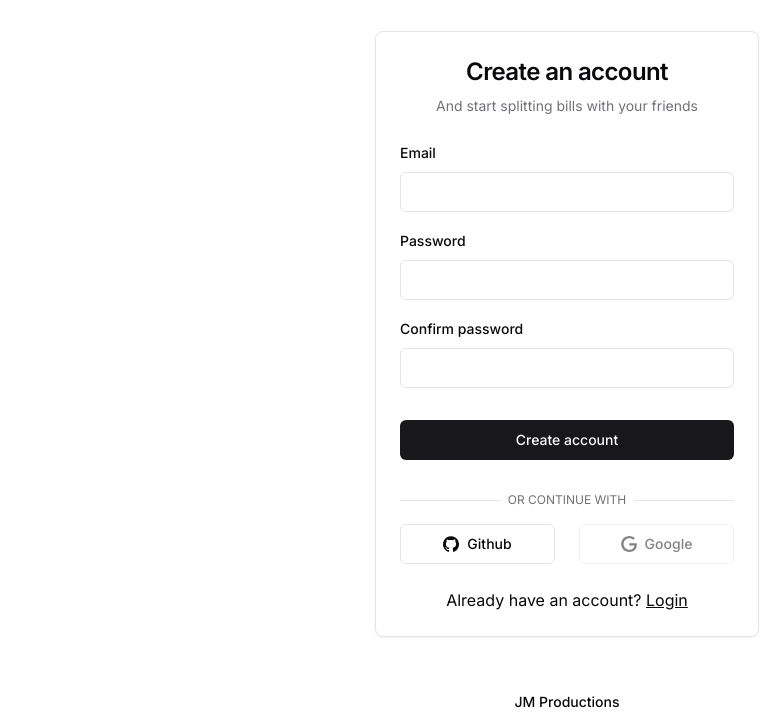
Register form tests › Try registering with an empty confirm password
The width and height of the screenshot is (776, 715).
Step 1. Type "test@test.com" into the field with test id "register-email" → (567, 192), box [400, 172, 734, 212]
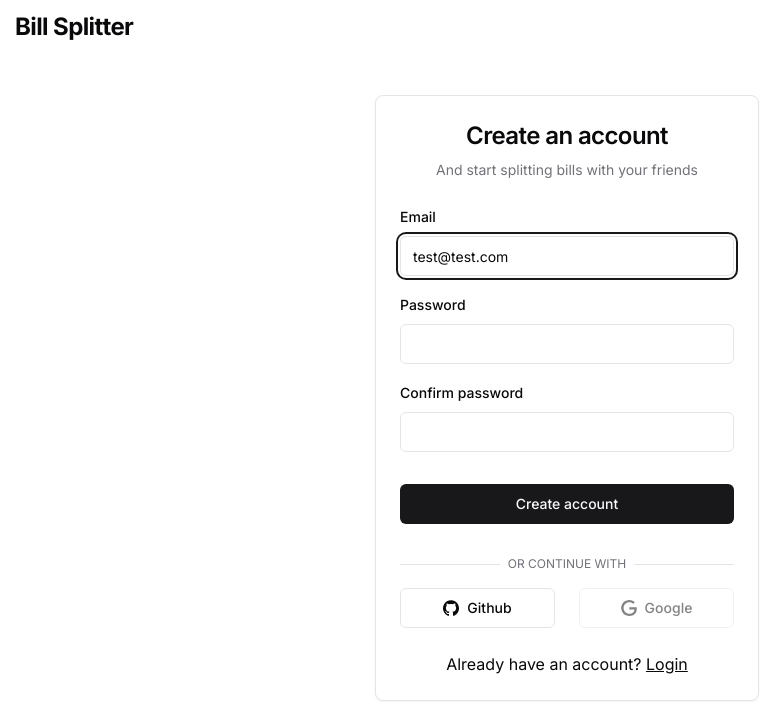
Step 2. Type "password123" into the password field with test id "register-password" → (567, 344), box [400, 324, 734, 364]
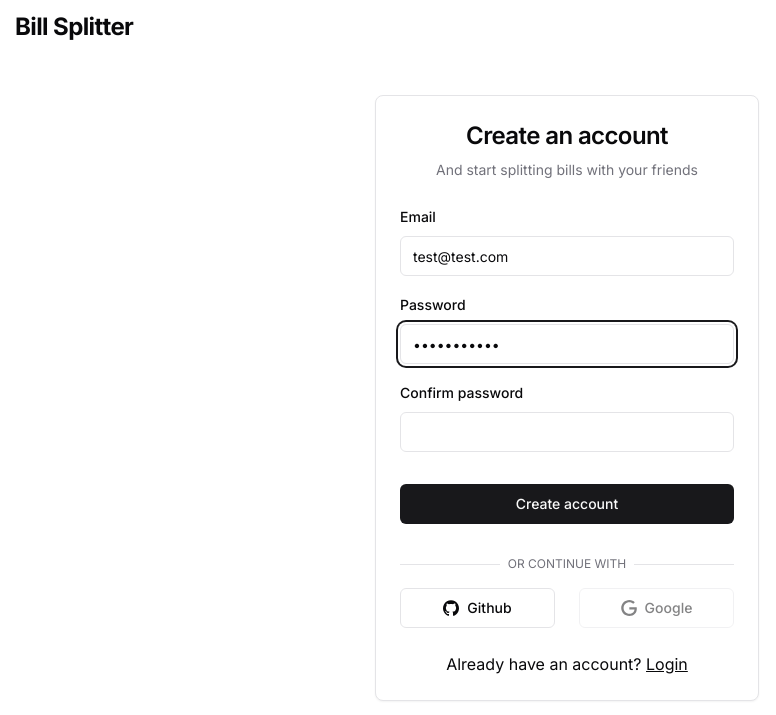
Step 3. Click the button with test id "register-submit" → click(567, 504), box [400, 484, 734, 524]
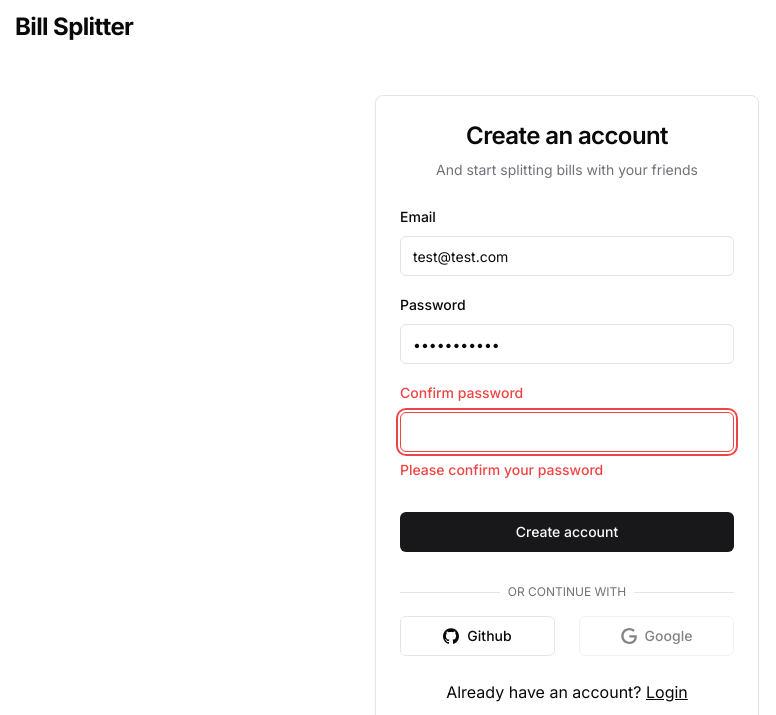
Expected: the form with test id "register-form" shows "Please confirm your password", [400, 204, 734, 568]
